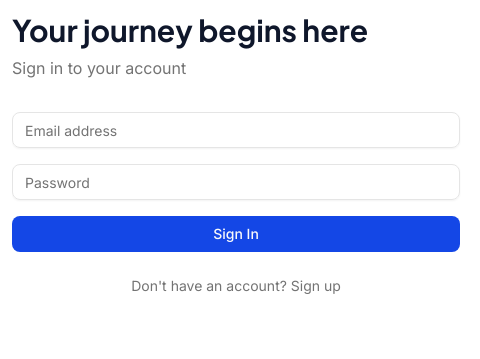
Test: LoginPage › shows validation errors when submitting empty form
Click the button "Sign In" at (236, 234), box left=12, top=216, right=460, bottom=252
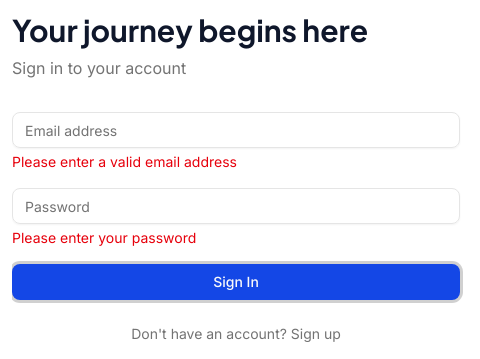
expect the text "Please enter a valid email address" is shown: met, box left=12, top=153, right=237, bottom=170
expect the text "Please enter your password" is shown: met, box left=12, top=229, right=196, bottom=246
